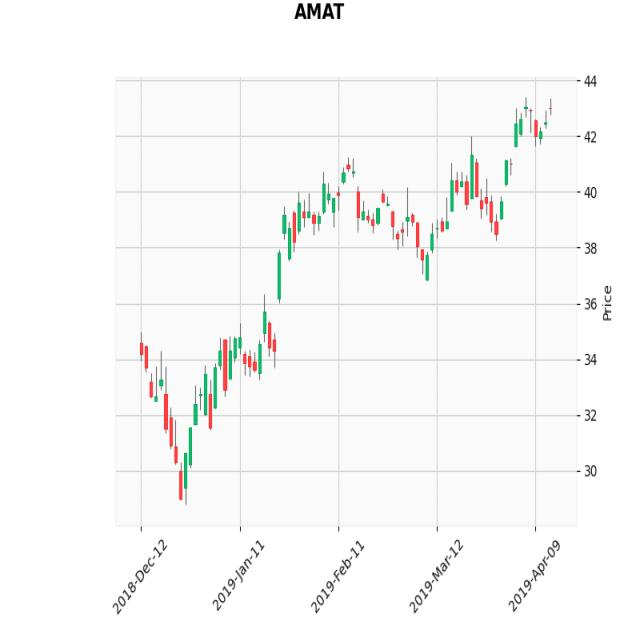Inverse-Head-Shoulders: (137, 328, 235, 511)
